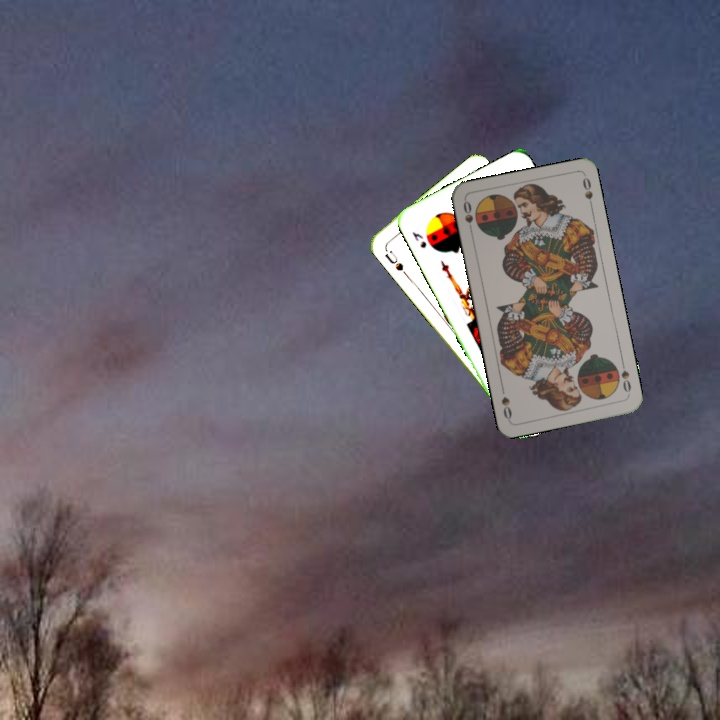SK: (408, 228, 429, 251)
SO: (617, 357, 634, 398), (459, 197, 476, 237)
SU: (381, 246, 406, 273)
